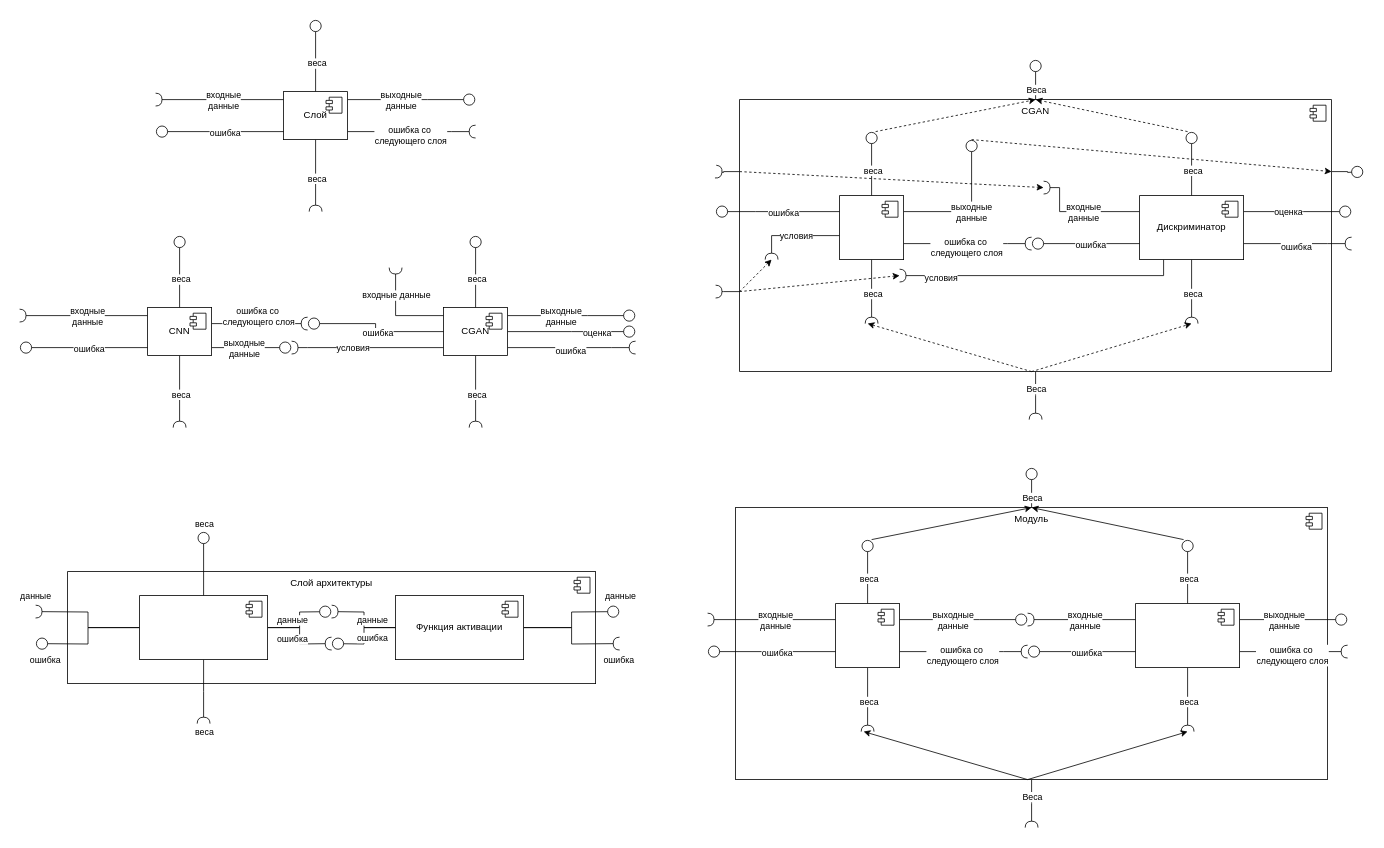
Image size: 1384x848. Some labels were removed from this diagram. Here are the shapes that lost their labels. From the top down, the box of each, then its label:
(839, 195, 904, 260): Генератор
(139, 595, 268, 660): Слой нейронной сети
(835, 603, 900, 668): LSTM
(1135, 603, 1240, 668): FF
